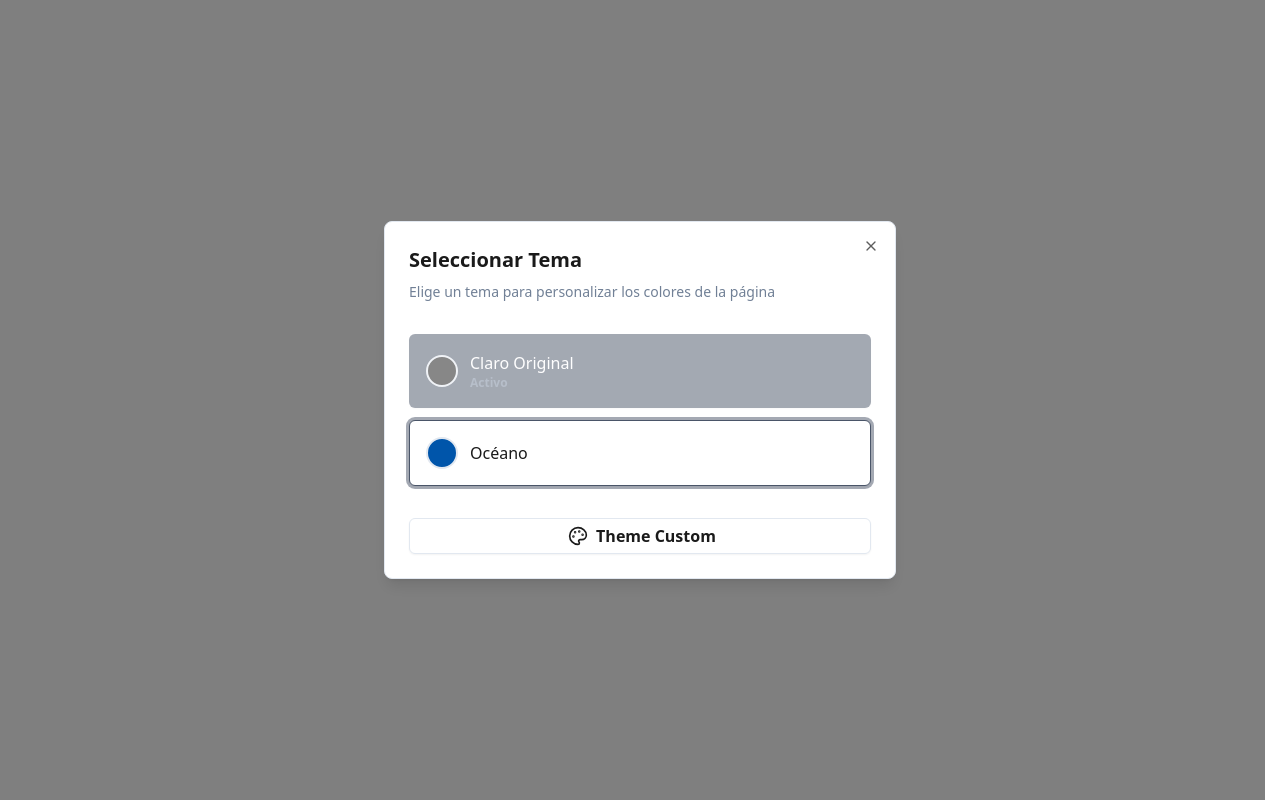
ThemeSelectorModal confirmation before reset › keeps activation failure visible without closing as published
This screenshot has width=1280, height=800.
Click the button "Océano" at (442, 453), box [409, 420, 871, 486]
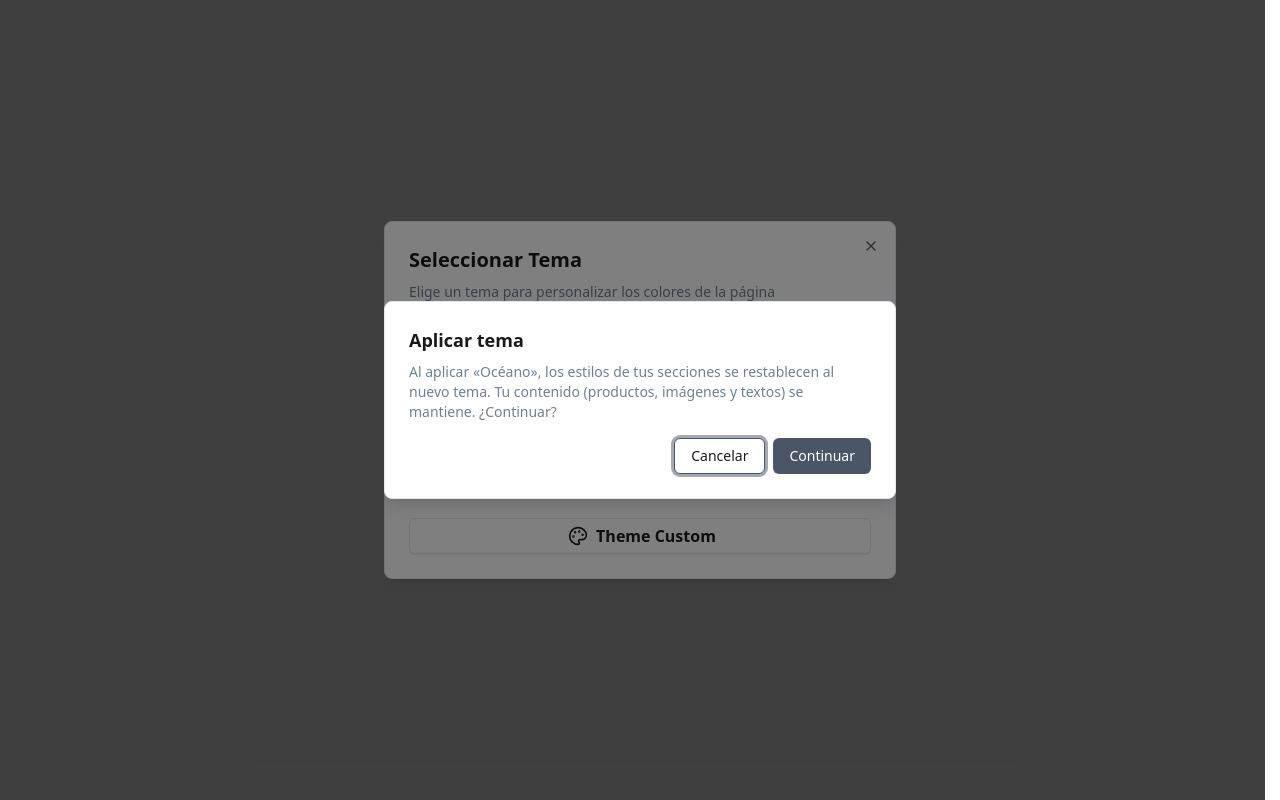
Result: the dialog that starts with "Aplicar tema" is shown at [384, 301, 896, 499]
Click the button "Continuar" at (822, 456), box [773, 438, 871, 474]
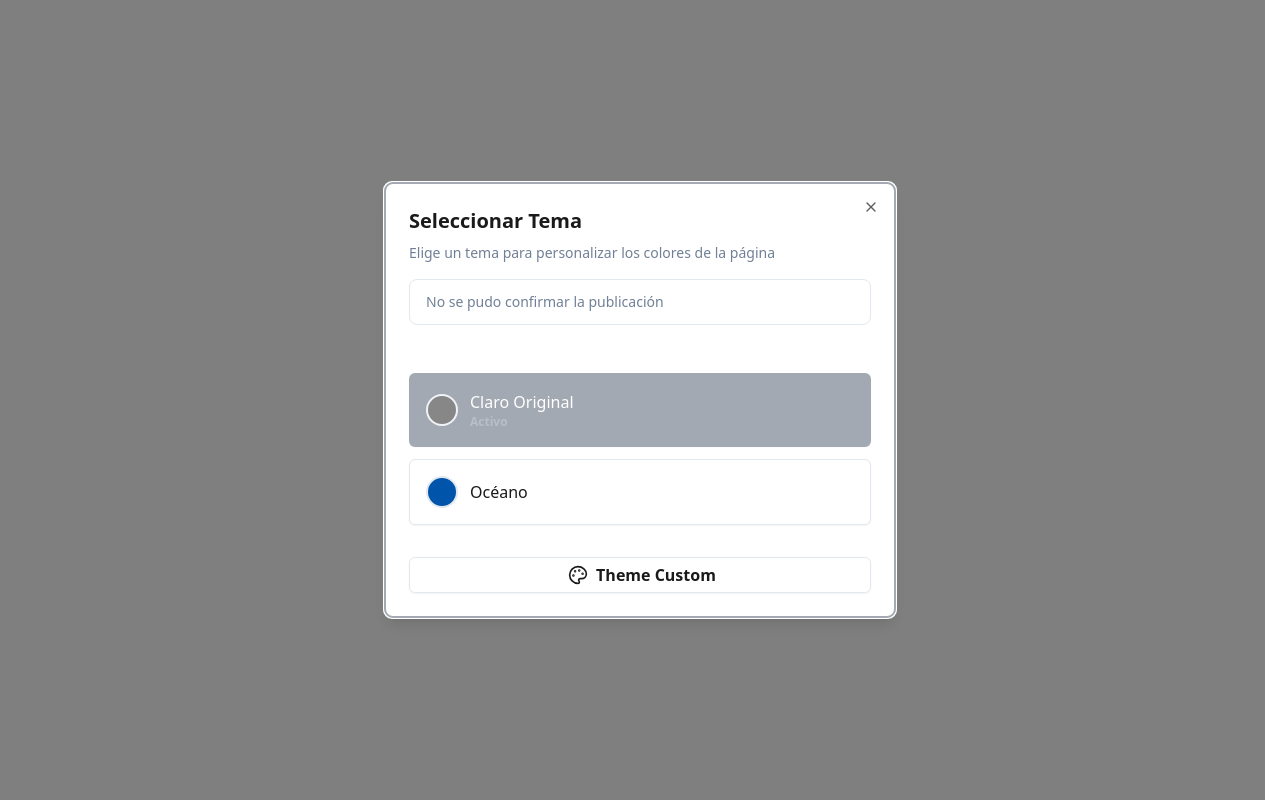
Result: the text "No se pudo confirmar la publicación" is shown at [426, 292, 664, 311]
